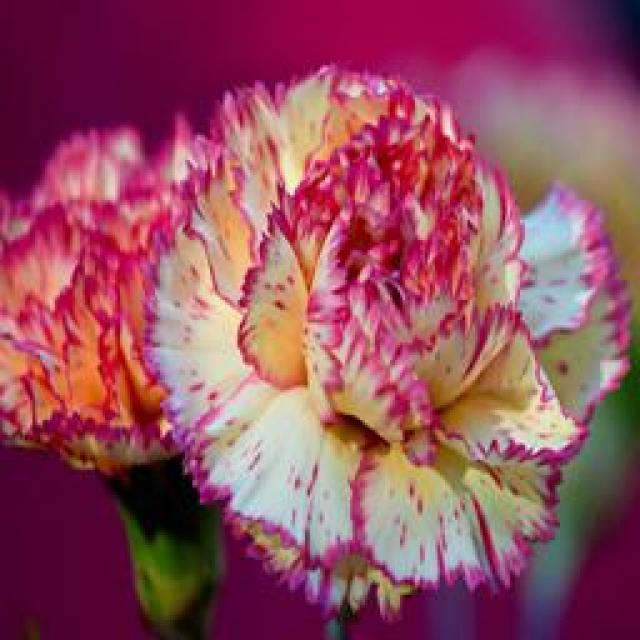carnation: (152, 77, 616, 591)
